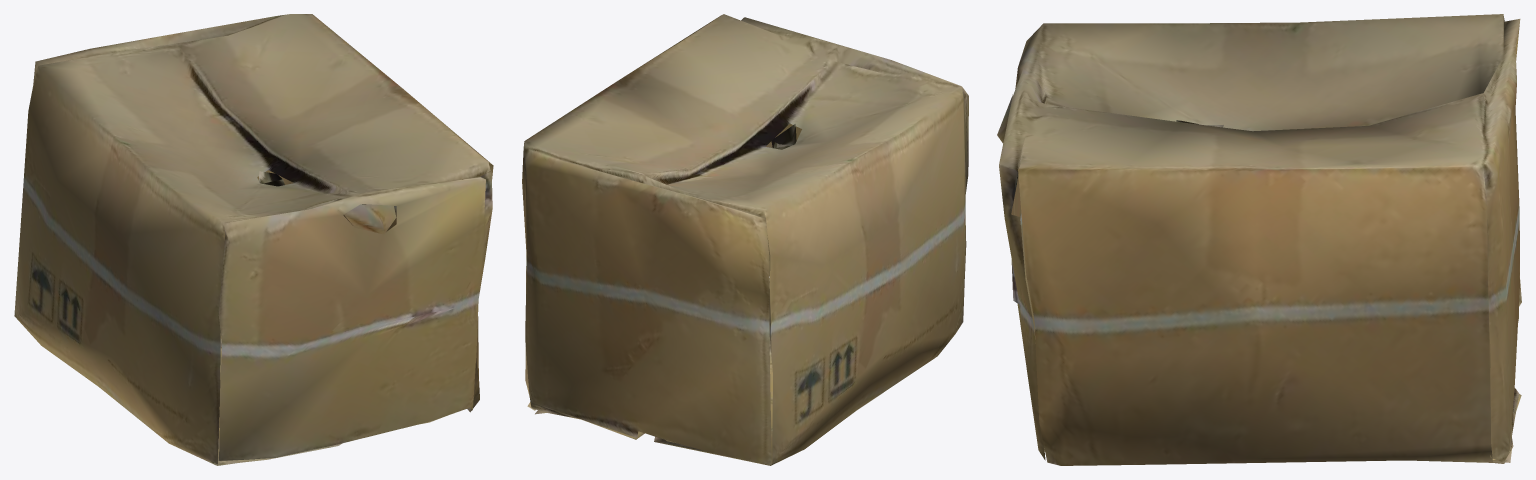
File: cardboard_box_01.glb
3 views of the same model, side by side, from view 1: azimuth 30°, elevation 25°; view 2: azimuth 150°, elevation 25°; view 3: azimuth 270°, elevation 25° (orthographic). The views are drawn at different scales.
Parts seen in each view (by area): view 1: cardboard_box_01; view 2: cardboard_box_01; view 3: cardboard_box_01.
Boxes of the visible parts, x1=… form: cardboard_box_01: x1=14, y1=14, x2=493, y2=465; cardboard_box_01: x1=522, y1=14, x2=968, y2=465; cardboard_box_01: x1=997, y1=14, x2=1521, y2=465.
Size of the model in its own units: 0.3873 by 0.3403 by 0.5155.
1 material, 1 textured.
